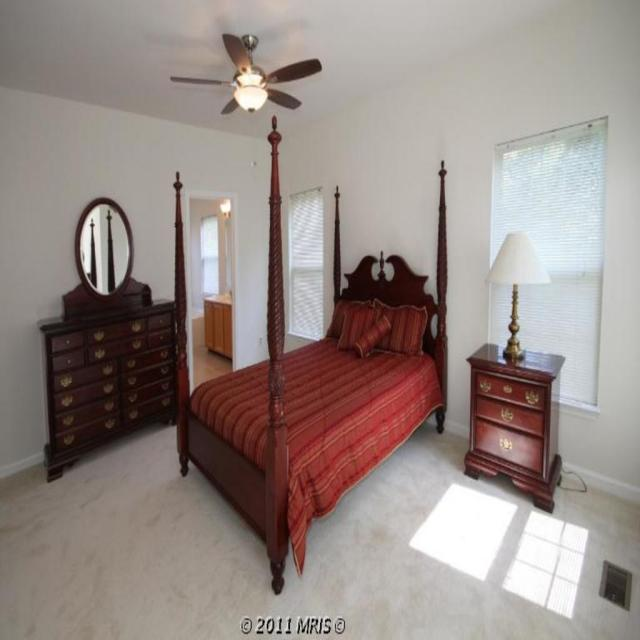Bulb: (169, 31, 323, 124)
